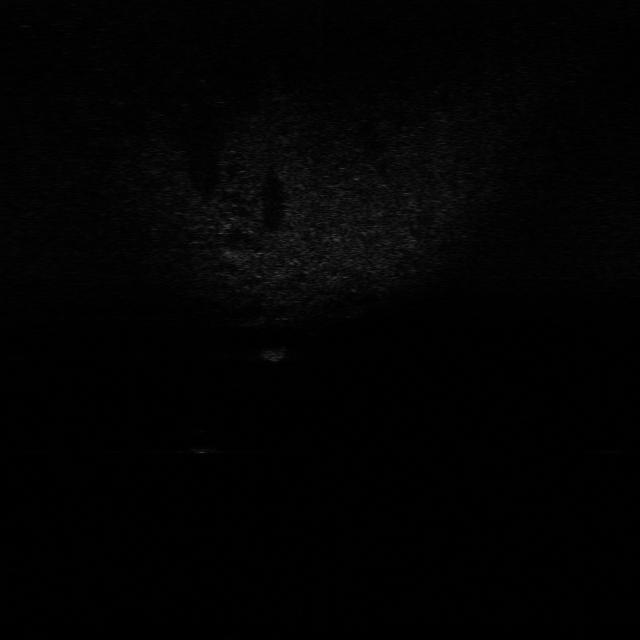ball: (183, 427, 226, 458)
cube: (256, 339, 290, 364)
